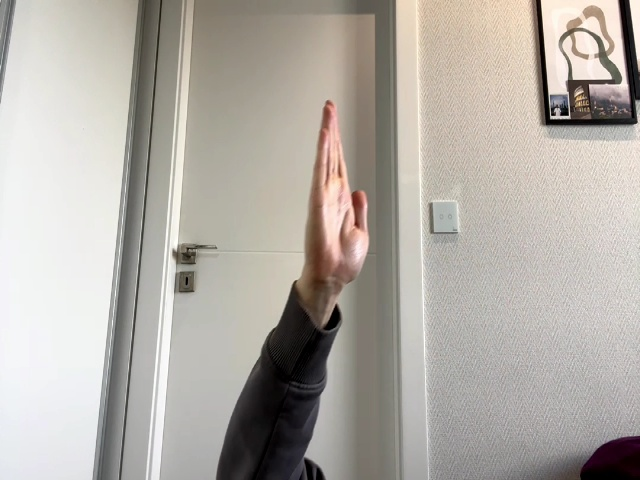SZ: (304, 100, 370, 291)
